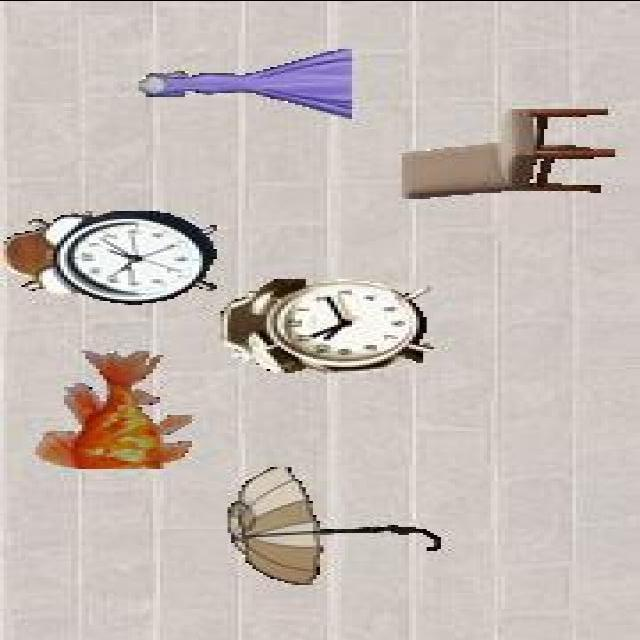Other Objects: (2, 209, 217, 305), (220, 276, 433, 372), (134, 47, 352, 119)
